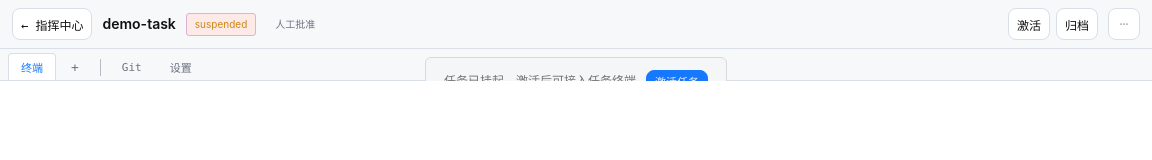
it: 溢出菜单空态隐藏（tasks 4.1 / design D4） › suspended：入口出现，删除项可见且未禁用
This screenshot has width=1152, height=160.
Click the button named "更多操作".
click(1124, 24)  # box x1=1108 y1=8 x2=1140 y2=40
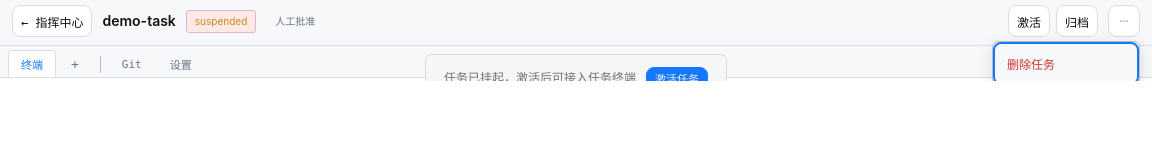
Expected: the button with class "overflow-item" is enabled, x1=997 y1=46 x2=1135 y2=81
